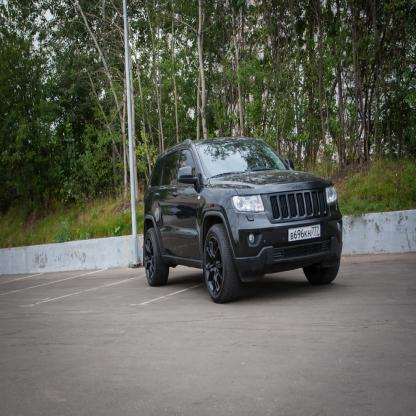Car: (143, 139, 343, 304)
